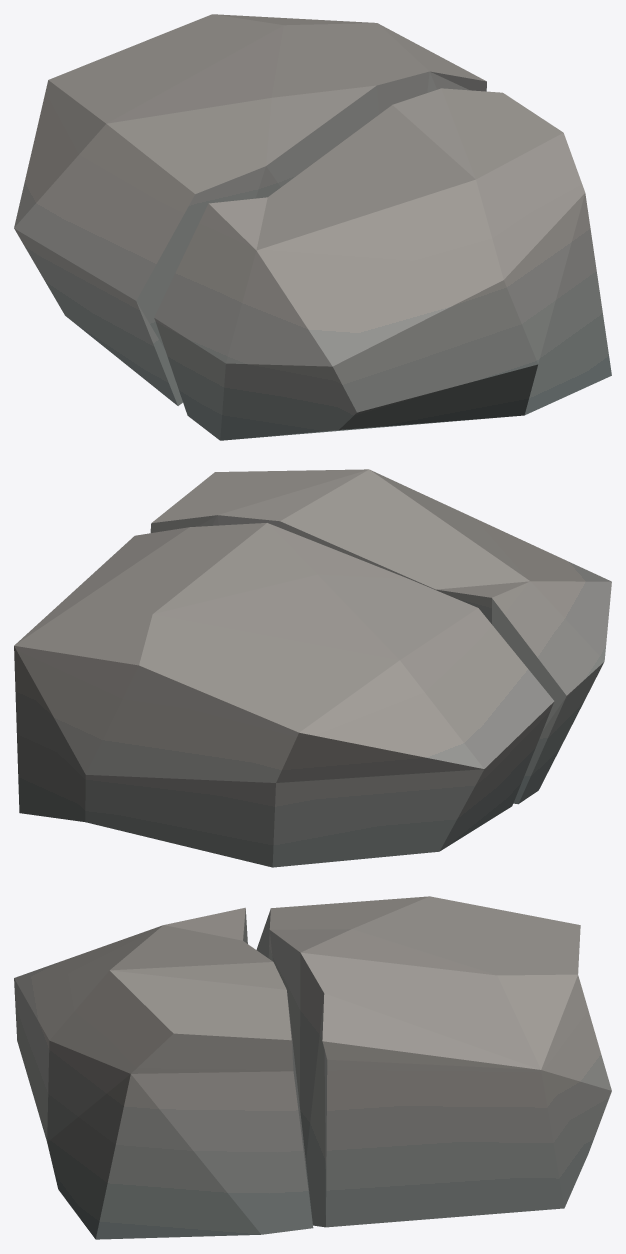
File: Rock_005.fbx
The picture shows the model from 3 angles, top to bottom: view 1: azimuth 30°, elevation 25°; view 2: azimuth 150°, elevation 25°; view 3: azimuth 270°, elevation 25°; orthographic projection. The views are drawn at different scales.
Parts seen in each view (by area): view 1: Rock.005; view 2: Rock.005; view 3: Rock.005.
Part boxes in pixels (bbox=[...]): Rock.005: bbox=[14, 14, 611, 440]; Rock.005: bbox=[14, 469, 611, 867]; Rock.005: bbox=[14, 896, 611, 1239].
Size of the model in its own units: 2.13 by 1.31 by 2.62.
